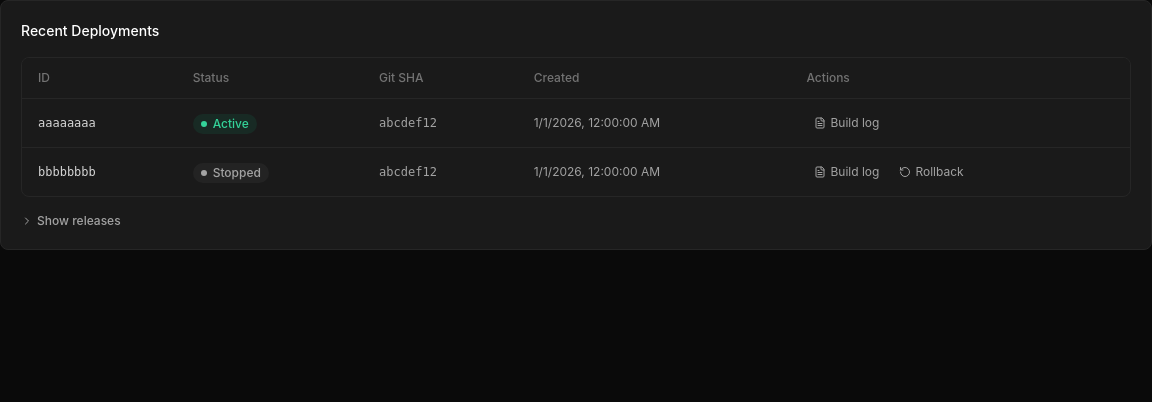
DeploymentsCard › refetches the deployments list after a release deploy and clears the timer on unmount
The width and height of the screenshot is (1152, 402).
Expected: the text "aaaaaaaa" is shown, [22,98,177,148]
Click the button "Show releases" at [71, 221], box [21,213,121,229]
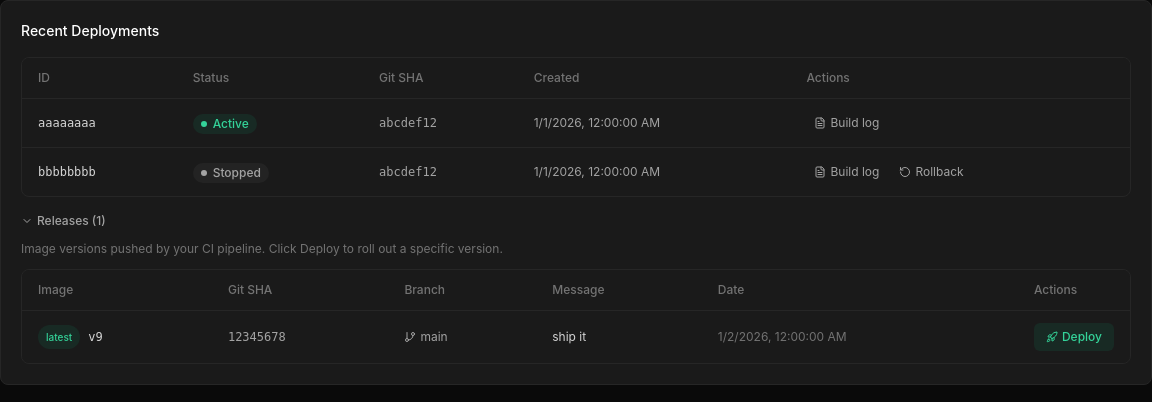
Now the text "ship it" is shown, box [536,310,702,363]
Click the button "Deploy" at [1074, 337], box [1034,323,1114,351]
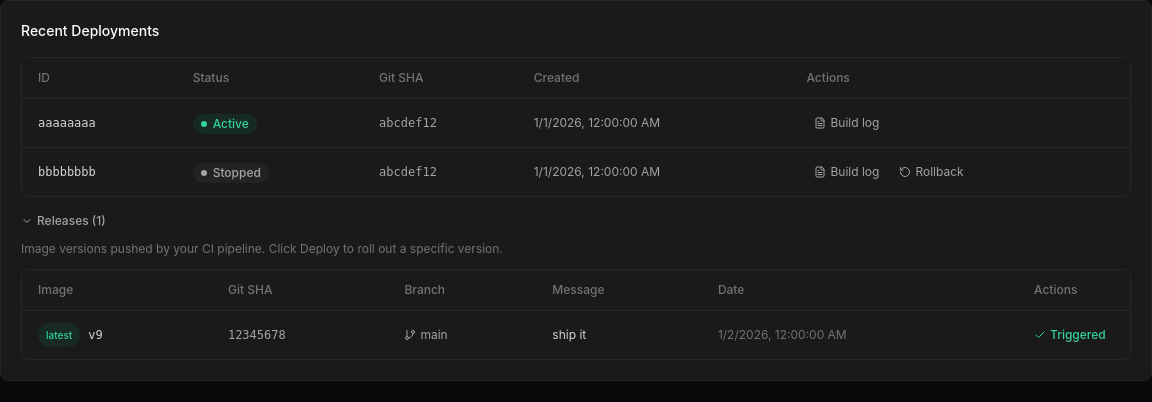
Now the text "Triggered" is shown, box [1034,327,1114,343]
